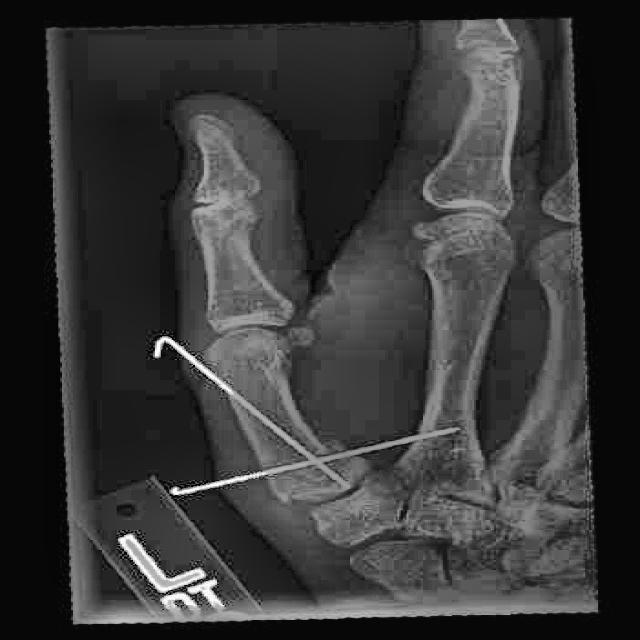fingers positive: (266, 412, 388, 520)
